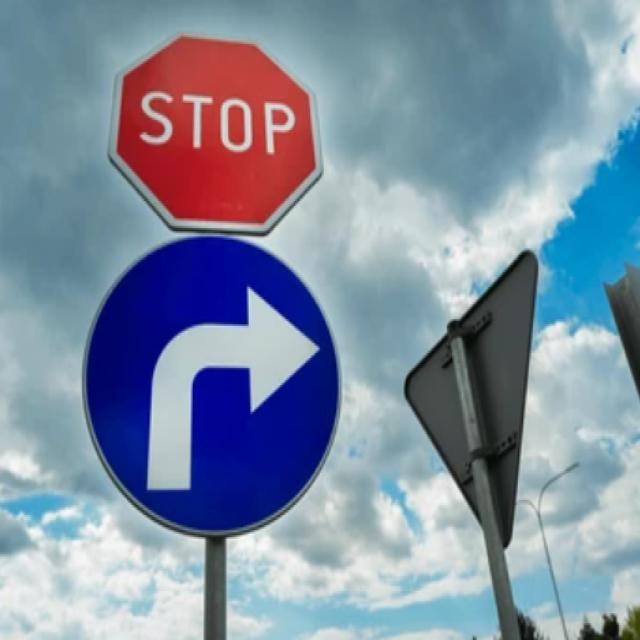RIGHT: (85, 238, 340, 535)
